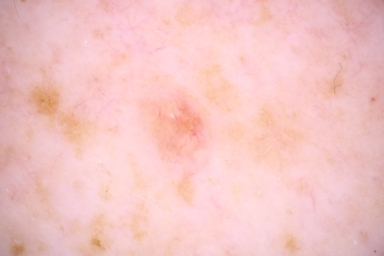nevus: (152, 101, 203, 143)
